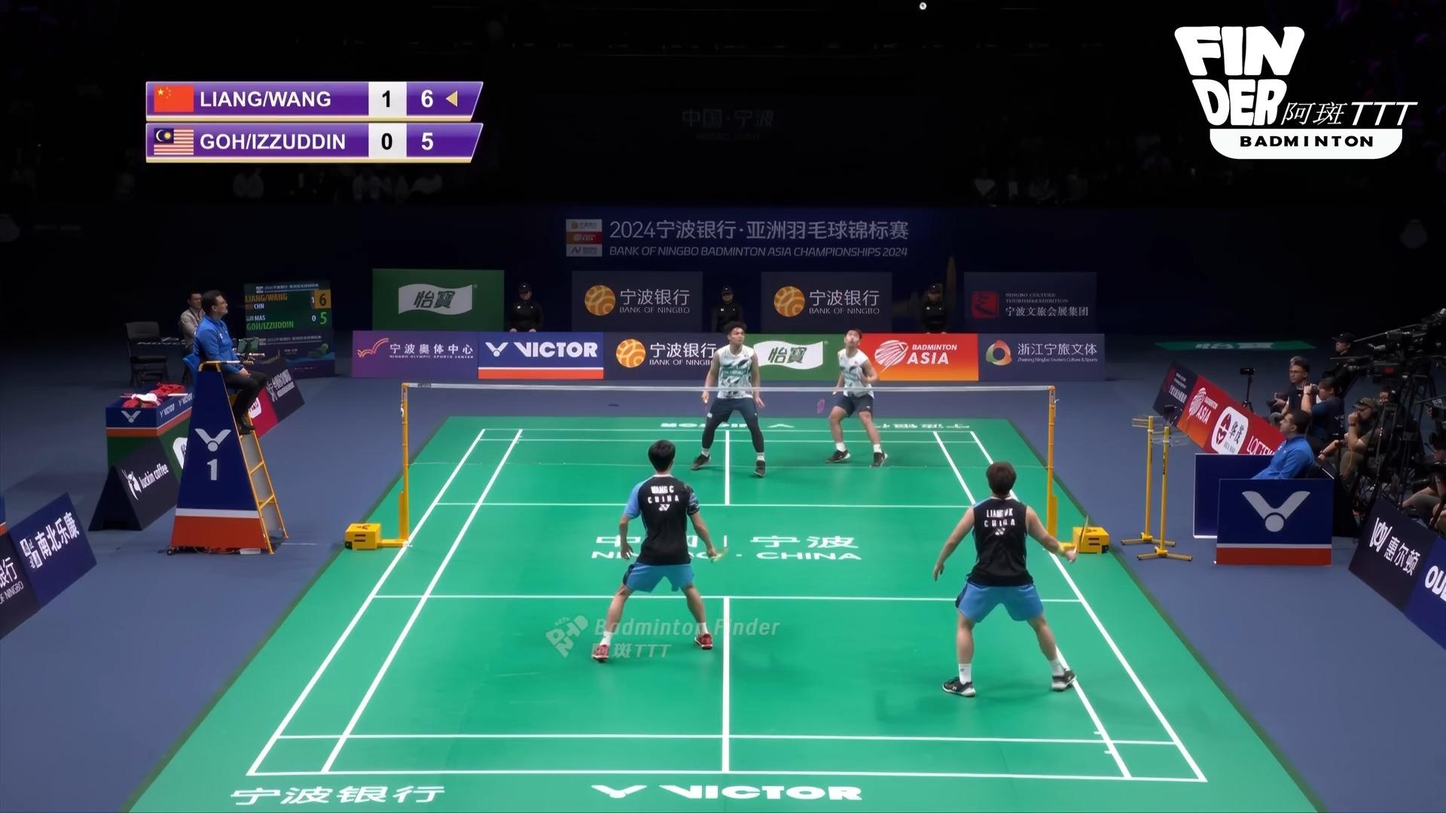shuttlecock: (919, 1, 928, 11)
